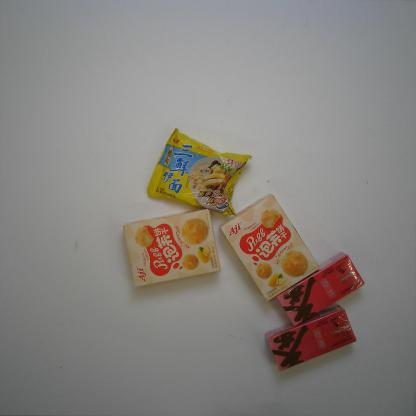Dessert: (218, 190, 320, 308), (121, 205, 223, 295)
Instant Drink: (274, 251, 365, 328), (264, 302, 358, 376)
Instant Noodles: (143, 125, 254, 220)
